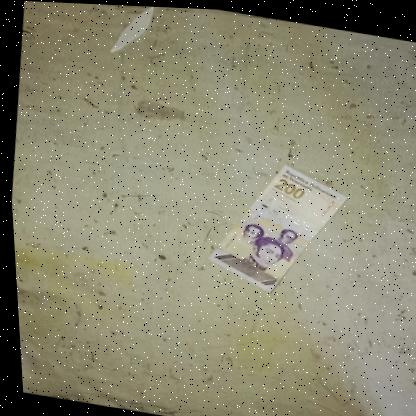two_hundred-front-vef: (196, 149, 353, 302)
